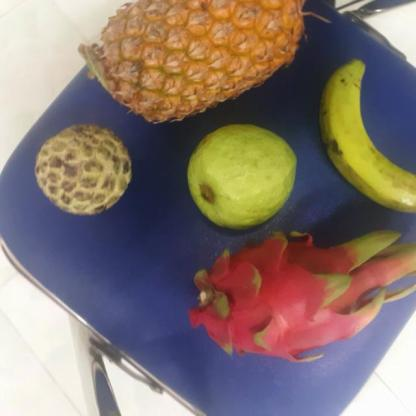annona: (36, 126, 136, 215)
banana: (318, 59, 416, 217)
guava: (188, 127, 300, 230)
pineapple: (90, 0, 302, 122)
pitaya: (190, 228, 391, 363)
